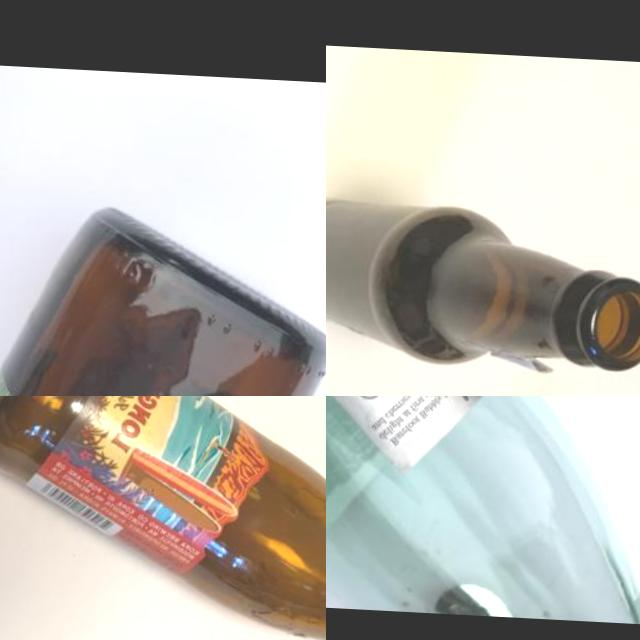garrafa de vidro: (0, 396, 326, 640), (326, 396, 640, 625), (0, 194, 326, 396), (326, 191, 640, 380)
